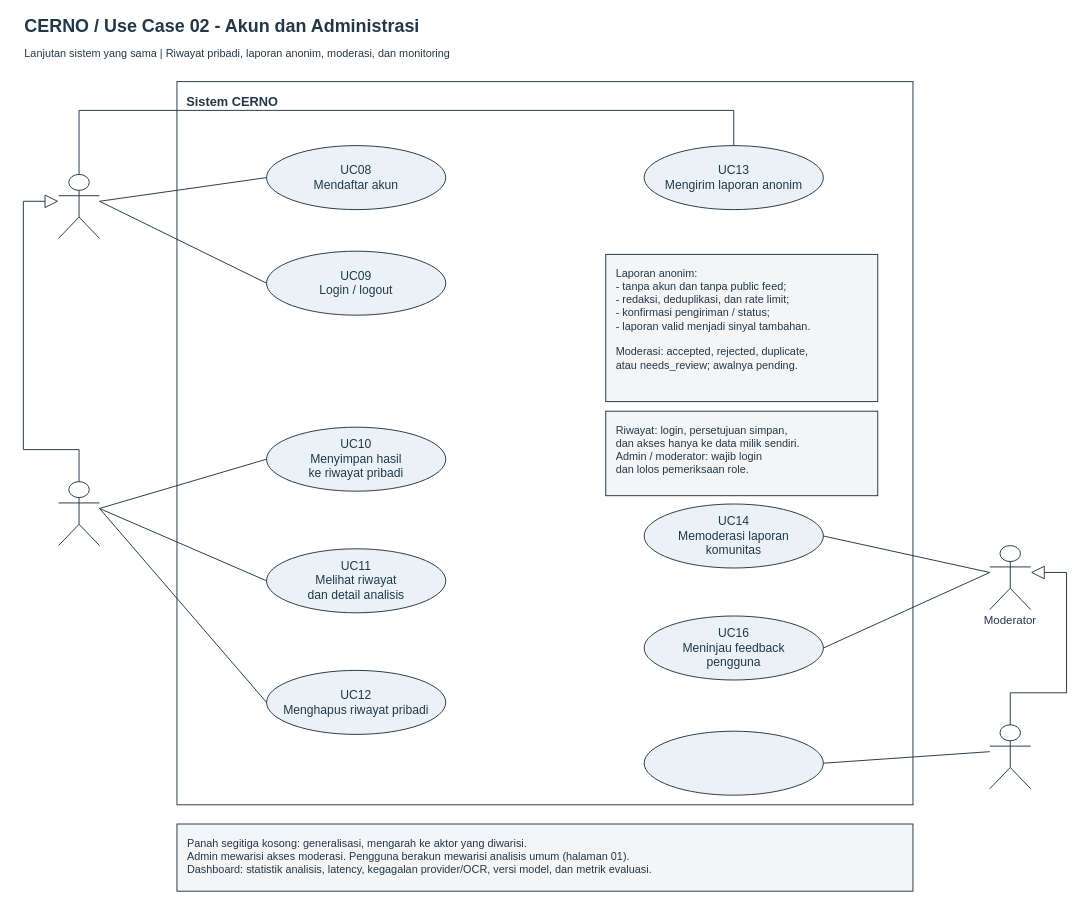
This 1091x902 diagram has some shape labels left out. The shapes that lost their labels are listed below. From the top down, each one's centre as x and y in pixels, then its label:
At point (79, 206): "Pengguna umum".
At point (79, 513): "Pengguna berakun".
At point (733, 762): "UC15 Memantau dashboard operasional dan model".
At point (1010, 756): "Admin".
